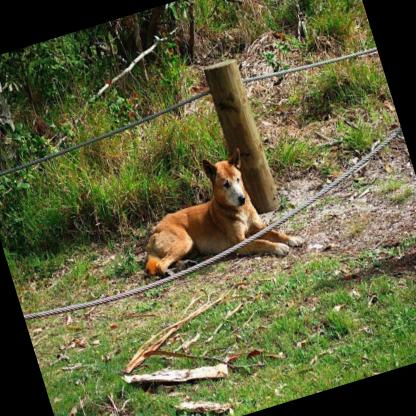dingo: (118, 136, 306, 294)
